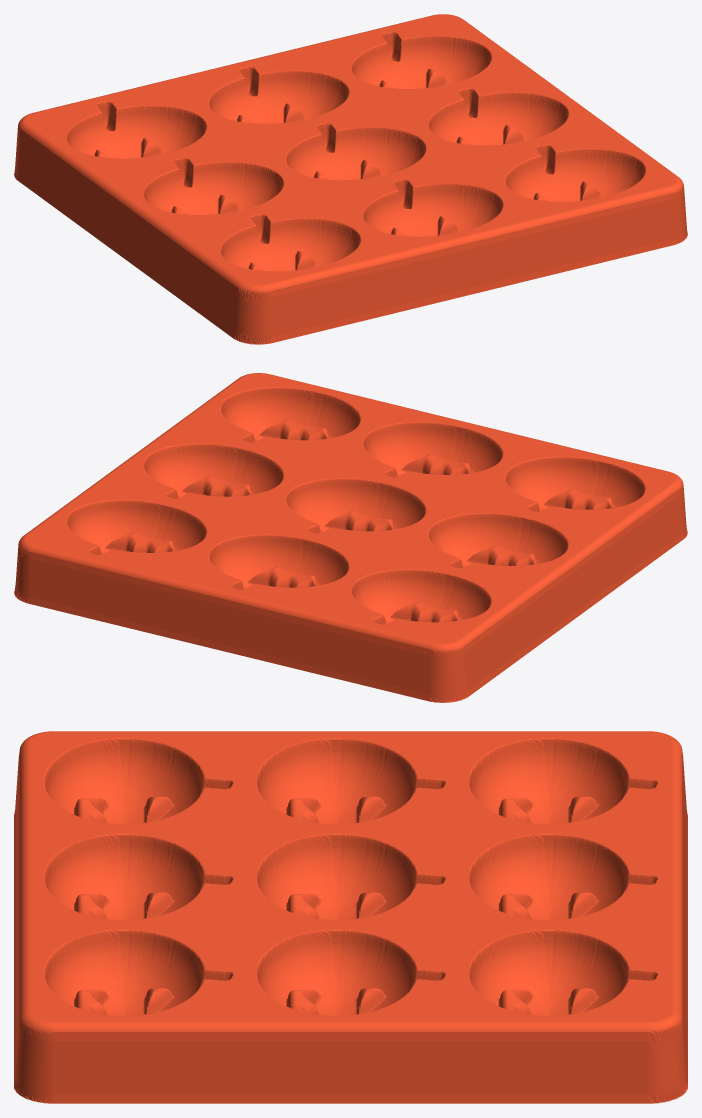
Rendered from mold.glb.
3 renders of one model, top to bottom at view 1: azimuth 30°, elevation 25°; view 2: azimuth 150°, elevation 25°; view 3: azimuth 270°, elevation 25°, orthographic. The views are drawn at different scales.
Parts seen in each view (by area): view 1: geometry_0; view 2: geometry_0; view 3: geometry_0.
Boxes of the visible parts, x1=… form: geometry_0: x1=14, y1=14, x2=687, y2=344; geometry_0: x1=14, y1=373, x2=687, y2=702; geometry_0: x1=14, y1=731, x2=687, y2=1103.
Bounding box in the file's own units: 0.1595 × 0.0185 × 0.1499.
